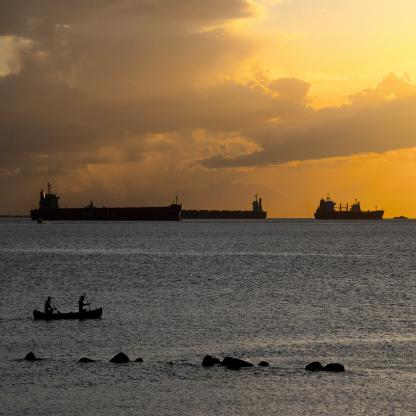Bulk Carrier: (30, 183, 183, 220), (180, 194, 266, 218), (313, 198, 384, 219), (393, 215, 409, 219)
